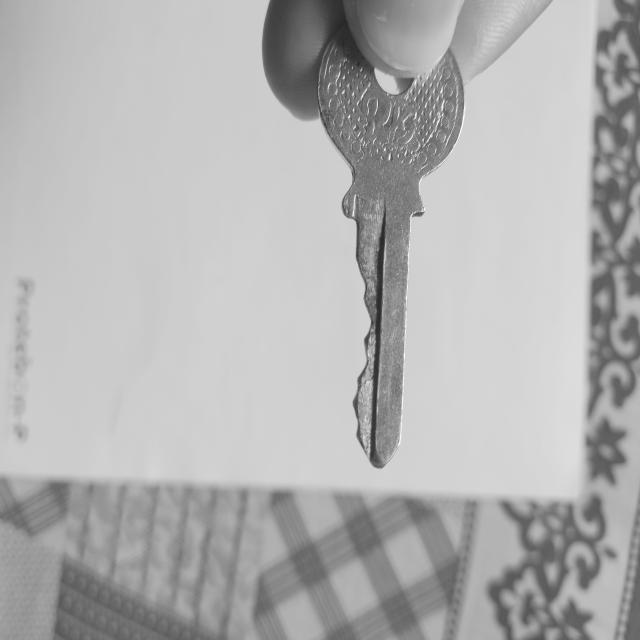KEY: (318, 28, 465, 467)
